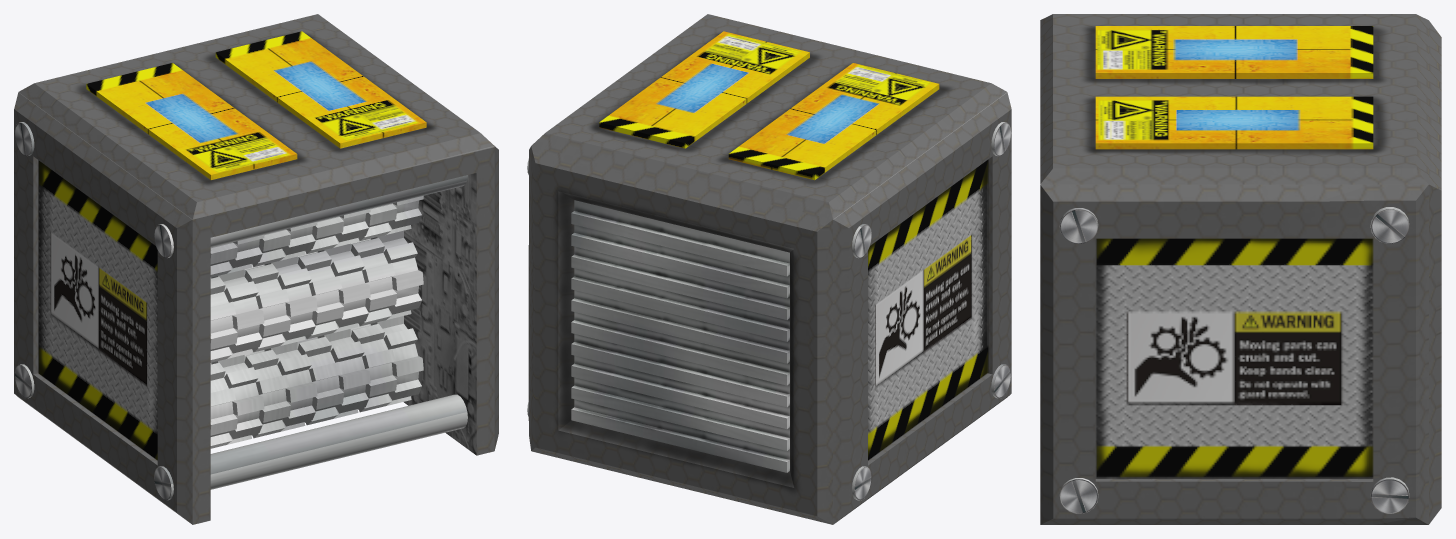
Rendered from Crusher_No_Blade.fbx.
The picture shows the model from 3 angles, left to right: view 1: azimuth 30°, elevation 25°; view 2: azimuth 150°, elevation 25°; view 3: azimuth 270°, elevation 25°; orthographic projection. The views are drawn at different scales.
Parts seen in each view (by area): view 1: Crusher; view 2: Crusher; view 3: Crusher.
Boxes of the visible parts, x1,y1,x2,y2 form: Crusher: [14, 14, 498, 524]; Crusher: [527, 14, 1011, 524]; Crusher: [1040, 14, 1441, 524].
Bounding box in the file's own units: 65 × 61 × 62.
1 material, 1 textured.
